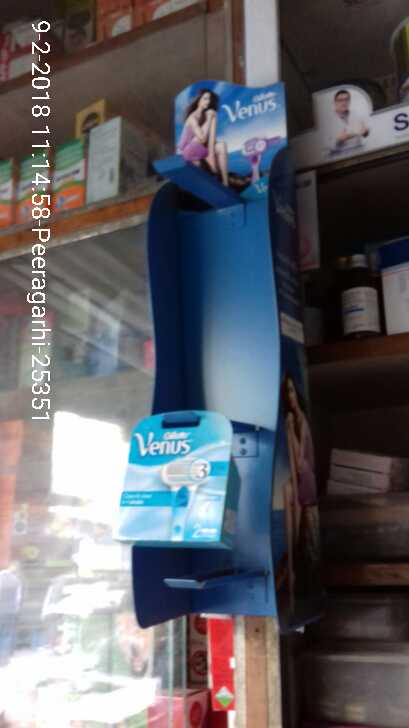venus: (114, 397, 240, 550)
